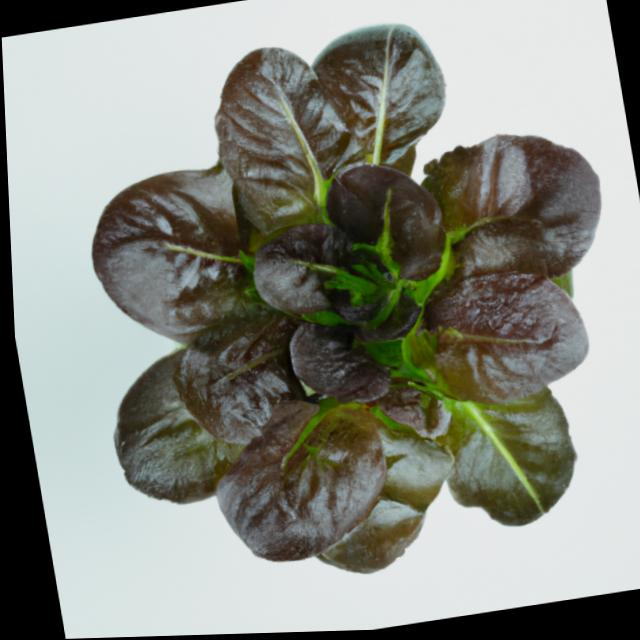-P: (34, 0, 640, 621)
